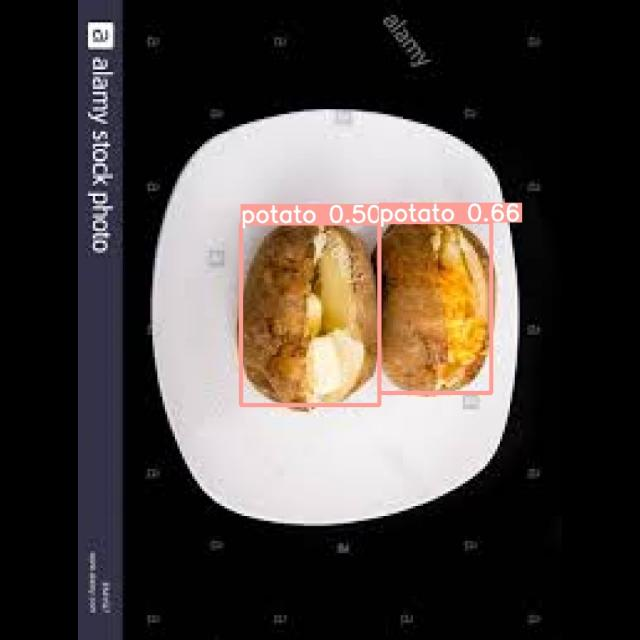Damaged potato: (241, 223, 379, 404), (380, 223, 490, 393)
